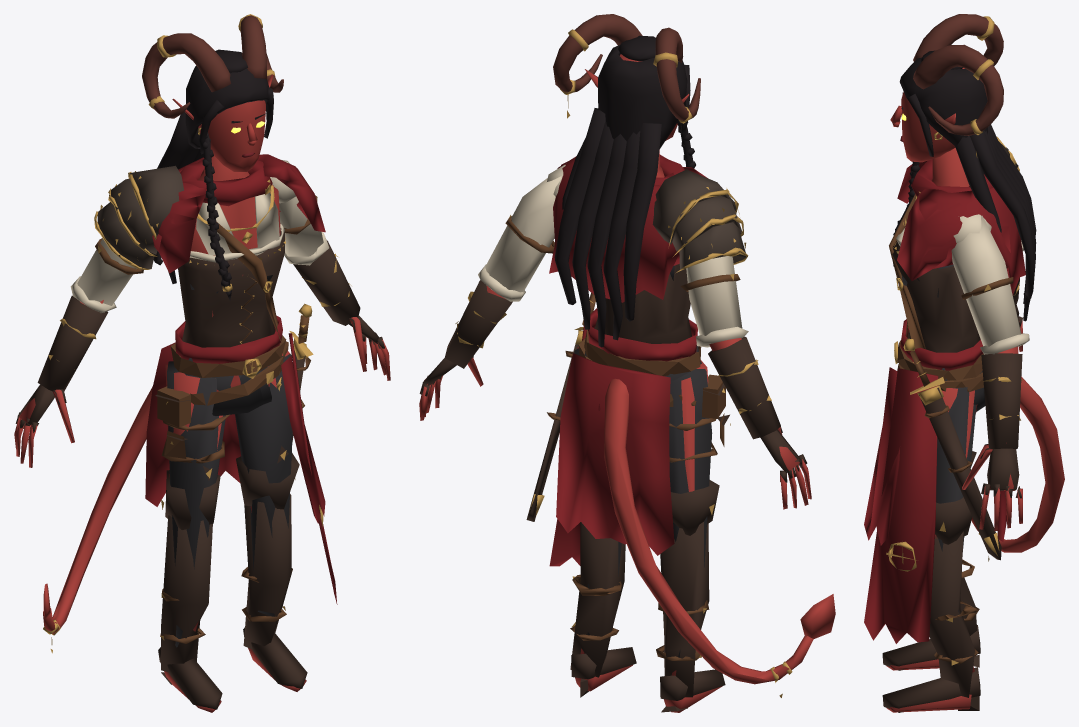
File: hero_13.glb
The picture shows the model from 3 angles, left to right: view 1: azimuth 30°, elevation 25°; view 2: azimuth 150°, elevation 25°; view 3: azimuth 270°, elevation 25°; orthographic projection. The views are drawn at different scales.
Parts seen in each view (by area): view 1: hero_13__OW_Armor_CrimsonRogue_01_Chest_d, hero_13__OW_Armor_CrimsonRogue_01_Feet_d, hero_13__OW_Char_TieflingRogue_01_Body_Head_d, hero_13__OW_Armor_CrimsonRogue_01_Shoulders_d, hero_13__OW_Armor_CrimsonRogue_01_Legs_d, hero_13__OW_Armor_CrimsonRogue_01_Arms_d, hero_13__OW_Char_TieflingRogue_01_Body_Tail_d, hero_13__OW_Char_TieflingRogue_01_Body_Torso_d, hero_13__OW_Char_TieflingRogue_01_Body_Hands_d, hero_13__OW_Armor_CrimsonRogue_01_Hands_d, hero_13__OW_Char_TieflingRogue_01_Body_Legs_d, hero_13__OW_Armor_CrimsonRogue_01_Weapon_Hip_d; view 2: hero_13__OW_Armor_CrimsonRogue_01_Chest_d, hero_13__OW_Char_TieflingRogue_01_Body_Head_d, hero_13__OW_Armor_CrimsonRogue_01_Feet_d, hero_13__OW_Armor_CrimsonRogue_01_Shoulders_d, hero_13__OW_Char_TieflingRogue_01_Body_Tail_d, hero_13__OW_Armor_CrimsonRogue_01_Arms_d, hero_13__OW_Armor_CrimsonRogue_01_Legs_d, hero_13__OW_Char_TieflingRogue_01_Body_Hands_d, hero_13__OW_Armor_CrimsonRogue_01_Weapon_Hip_d, hero_13__OW_Armor_CrimsonRogue_01_Hands_d, hero_13__OW_Char_TieflingRogue_01_Body_Legs_d, hero_13__OW_Char_TieflingRogue_01_Body_Feet_d; view 3: hero_13__OW_Armor_CrimsonRogue_01_Chest_d, hero_13__OW_Char_TieflingRogue_01_Body_Head_d, hero_13__OW_Armor_CrimsonRogue_01_Feet_d, hero_13__OW_Armor_CrimsonRogue_01_Shoulders_d, hero_13__OW_Armor_CrimsonRogue_01_Weapon_Hip_d, hero_13__OW_Char_TieflingRogue_01_Body_Tail_d, hero_13__OW_Armor_CrimsonRogue_01_Arms_d, hero_13__OW_Armor_CrimsonRogue_01_Legs_d, hero_13__OW_Armor_CrimsonRogue_01_Hands_d, hero_13__OW_Char_TieflingRogue_01_Body_Hands_d, hero_13__OW_Char_TieflingRogue_01_Body_Torso_d, hero_13__OW_Char_TieflingRogue_01_Body_Feet_d (+1 smaller).
Part boxes in pixels (left/top/right/bottom): hero_13__OW_Armor_CrimsonRogue_01_Chest_d: left=70, top=160, right=337, bottom=604; hero_13__OW_Armor_CrimsonRogue_01_Feet_d: left=158, top=453, right=307, bottom=709; hero_13__OW_Char_TieflingRogue_01_Body_Head_d: left=142, top=14, right=283, bottom=300; hero_13__OW_Armor_CrimsonRogue_01_Shoulders_d: left=94, top=154, right=325, bottom=274; hero_13__OW_Armor_CrimsonRogue_01_Legs_d: left=161, top=354, right=292, bottom=647; hero_13__OW_Armor_CrimsonRogue_01_Arms_d: left=37, top=240, right=360, bottom=391; hero_13__OW_Char_TieflingRogue_01_Body_Tail_d: left=43, top=386, right=152, bottom=653; hero_13__OW_Char_TieflingRogue_01_Body_Torso_d: left=190, top=156, right=280, bottom=391; hero_13__OW_Char_TieflingRogue_01_Body_Hands_d: left=14, top=317, right=390, bottom=467; hero_13__OW_Armor_CrimsonRogue_01_Hands_d: left=15, top=315, right=384, bottom=432; hero_13__OW_Char_TieflingRogue_01_Body_Legs_d: left=165, top=351, right=292, bottom=631; hero_13__OW_Armor_CrimsonRogue_01_Weapon_Hip_d: left=289, top=303, right=313, bottom=441; hero_13__OW_Armor_CrimsonRogue_01_Chest_d: left=478, top=164, right=748, bottom=566; hero_13__OW_Char_TieflingRogue_01_Body_Head_d: left=553, top=14, right=700, bottom=347; hero_13__OW_Armor_CrimsonRogue_01_Feet_d: left=570, top=480, right=725, bottom=712; hero_13__OW_Armor_CrimsonRogue_01_Shoulders_d: left=549, top=154, right=748, bottom=302; hero_13__OW_Char_TieflingRogue_01_Body_Tail_d: left=604, top=378, right=835, bottom=697; hero_13__OW_Armor_CrimsonRogue_01_Arms_d: left=444, top=280, right=780, bottom=439; hero_13__OW_Armor_CrimsonRogue_01_Legs_d: left=574, top=327, right=730, bottom=657; hero_13__OW_Char_TieflingRogue_01_Body_Hands_d: left=419, top=357, right=811, bottom=509; hero_13__OW_Armor_CrimsonRogue_01_Weapon_Hip_d: left=526, top=292, right=595, bottom=521; hero_13__OW_Armor_CrimsonRogue_01_Hands_d: left=419, top=356, right=807, bottom=482; hero_13__OW_Char_TieflingRogue_01_Body_Legs_d: left=577, top=347, right=708, bottom=675; hero_13__OW_Char_TieflingRogue_01_Body_Feet_d: left=575, top=665, right=722, bottom=712; hero_13__OW_Armor_CrimsonRogue_01_Chest_d: left=864, top=194, right=1029, bottom=643; hero_13__OW_Char_TieflingRogue_01_Body_Head_d: left=890, top=14, right=1036, bottom=321; hero_13__OW_Armor_CrimsonRogue_01_Feet_d: left=882, top=451, right=980, bottom=712; hero_13__OW_Armor_CrimsonRogue_01_Shoulders_d: left=897, top=137, right=1025, bottom=295; hero_13__OW_Armor_CrimsonRogue_01_Weapon_Hip_d: left=903, top=338, right=1001, bottom=560; hero_13__OW_Char_TieflingRogue_01_Body_Tail_d: left=971, top=376, right=1064, bottom=561; hero_13__OW_Armor_CrimsonRogue_01_Arms_d: left=981, top=277, right=1023, bottom=449; hero_13__OW_Armor_CrimsonRogue_01_Legs_d: left=936, top=368, right=985, bottom=613; hero_13__OW_Armor_CrimsonRogue_01_Hands_d: left=980, top=305, right=1022, bottom=498; hero_13__OW_Char_TieflingRogue_01_Body_Hands_d: left=962, top=320, right=1022, bottom=531; hero_13__OW_Char_TieflingRogue_01_Body_Torso_d: left=901, top=148, right=977, bottom=413; hero_13__OW_Char_TieflingRogue_01_Body_Feet_d: left=886, top=659, right=971, bottom=712.
Size of the model in its own units: 1.16 by 1.97 by 0.5427.
